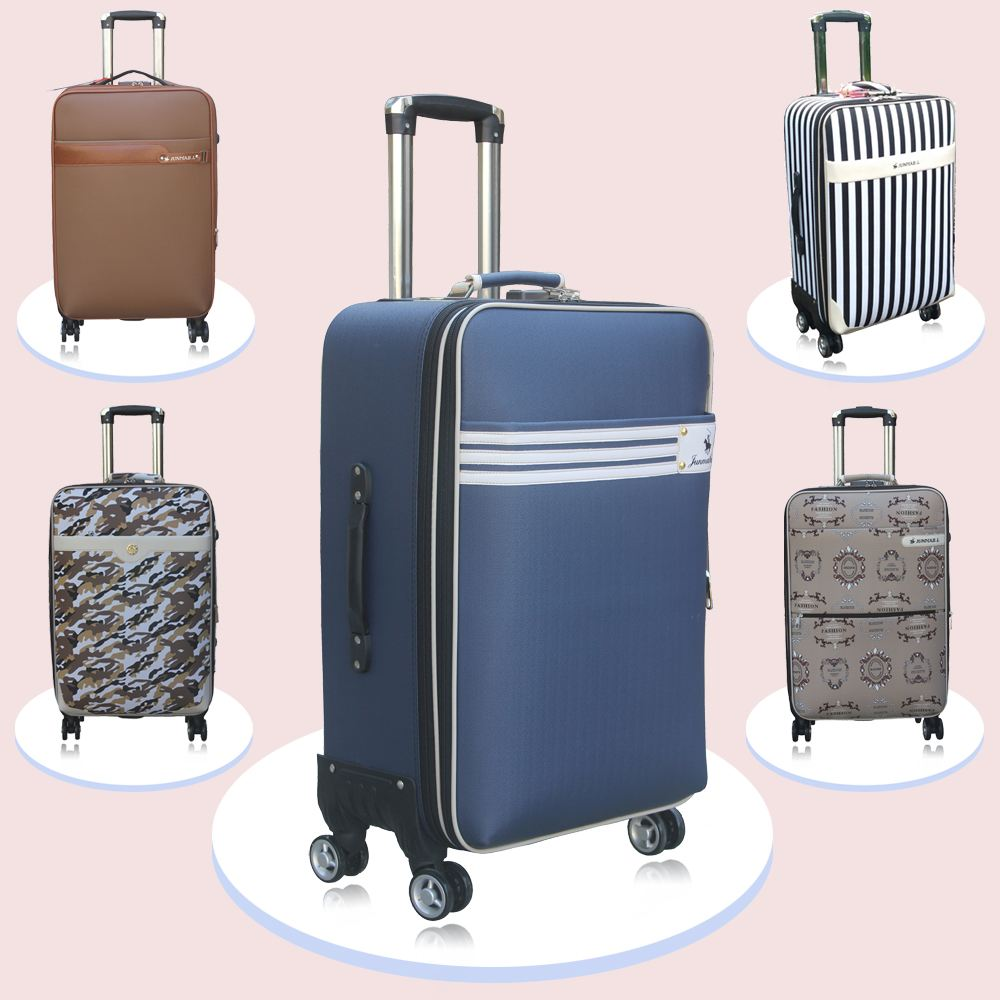suitcase: (308, 87, 721, 920), (784, 6, 960, 359), (47, 8, 223, 346), (47, 403, 223, 741), (783, 404, 952, 744)
